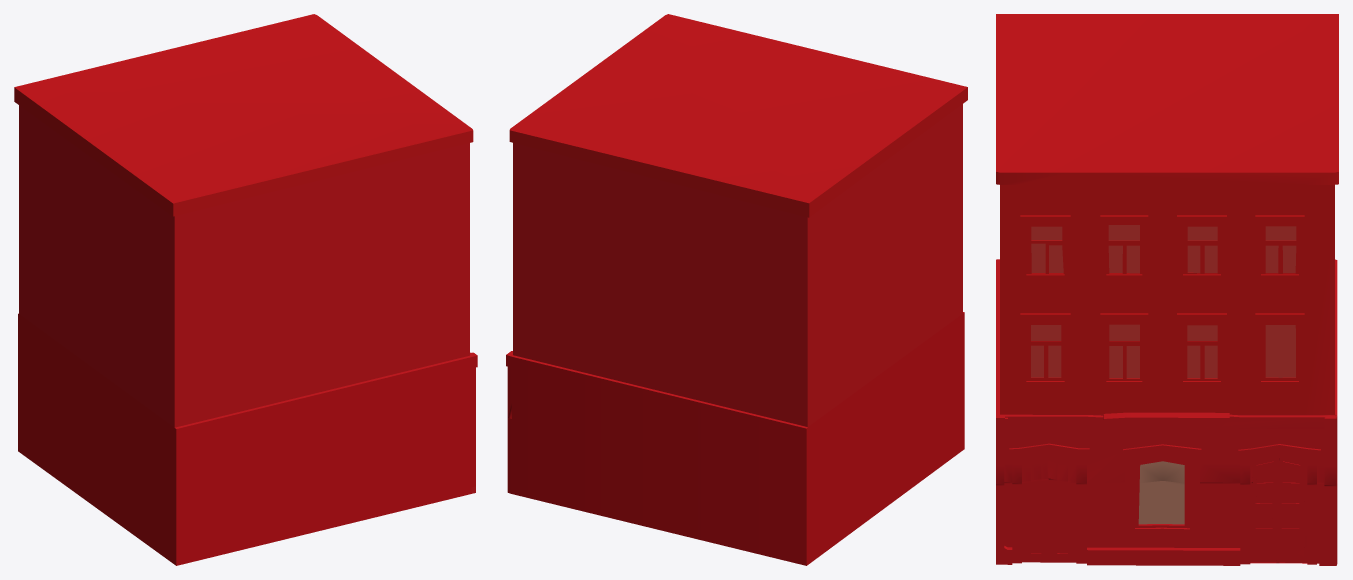
File: edificioch.obj
The picture shows the model from 3 angles, left to right: view 1: azimuth 30°, elevation 25°; view 2: azimuth 150°, elevation 25°; view 3: azimuth 270°, elevation 25°; orthographic projection. The views are drawn at different scales.
Visible parts, largest first — view 1: 5_Material.012, 5_Material.013, 5_TCom_BuildingsHouseOld0218_L.002, 5_TCom_BuildingsHouseOld0015_L.002; view 2: 5_Material.012, 5_Material.013, 5_TCom_BuildingsHouseOld0218_L.002, 5_TCom_BuildingsHouseOld0015_L.002; view 3: 5_TCom_BuildingsHouseOld0218_L.002, 5_Material.012, 5_TCom_BuildingsHouseOld0015_L.002, 5_TCom_BuildingsHouseOld0218_L.003, 5_TCom_BuildingsHouseOld0015_L.003.
Part boxes in pixels (x1,y1,x2,y2): 5_Material.012: [14, 14, 472, 427]; 5_Material.013: [18, 314, 477, 565]; 5_TCom_BuildingsHouseOld0218_L.002: [14, 87, 473, 216]; 5_TCom_BuildingsHouseOld0015_L.002: [18, 313, 477, 493]; 5_Material.012: [510, 14, 967, 426]; 5_Material.013: [506, 312, 964, 565]; 5_TCom_BuildingsHouseOld0218_L.002: [509, 87, 967, 217]; 5_TCom_BuildingsHouseOld0015_L.002: [506, 312, 964, 428]; 5_TCom_BuildingsHouseOld0218_L.002: [996, 172, 1338, 414]; 5_Material.012: [996, 14, 1338, 172]; 5_TCom_BuildingsHouseOld0015_L.002: [996, 259, 1337, 565]; 5_TCom_BuildingsHouseOld0218_L.003: [1031, 225, 1296, 378]; 5_TCom_BuildingsHouseOld0015_L.003: [1138, 461, 1184, 524].
Bounding box in the file's own units: 1.78 × 2.02 × 1.59.
